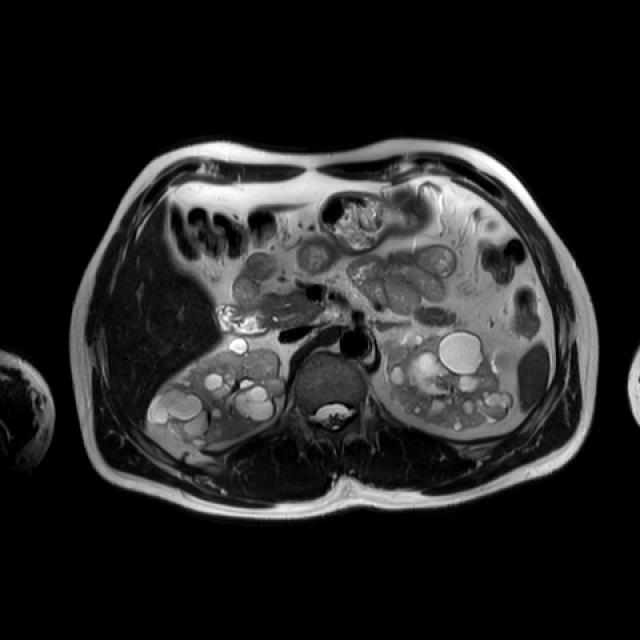sag: (145, 337, 288, 450)
sol: (380, 328, 515, 431)
